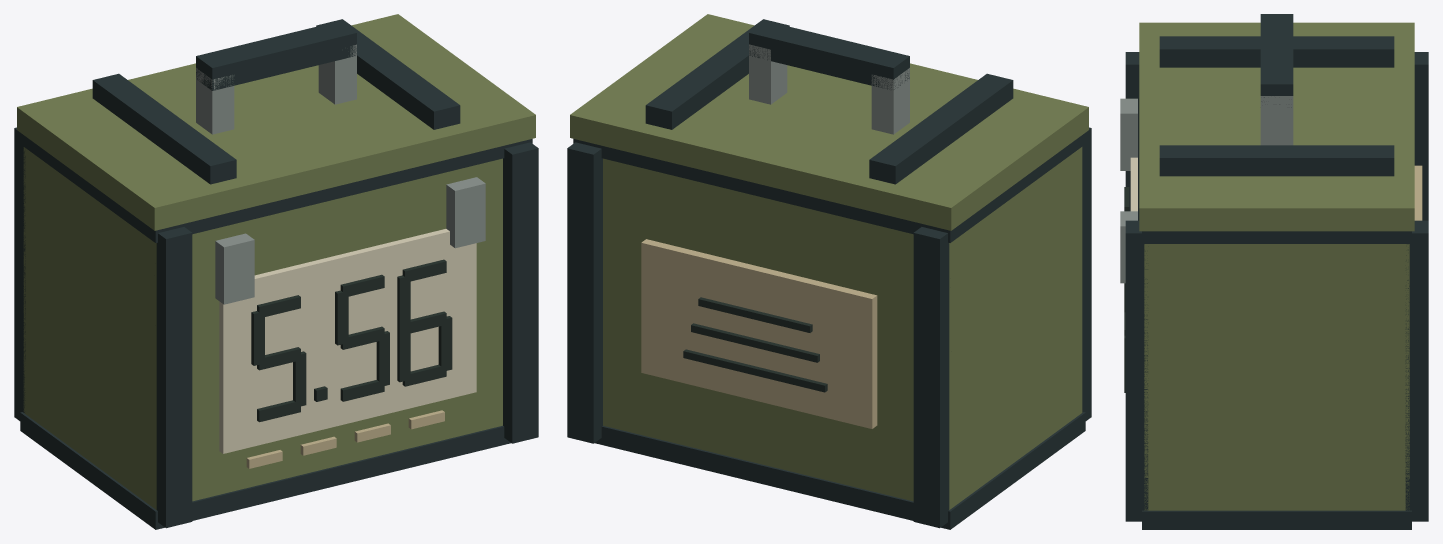
Rendered from FSA_AMMO_Pack_556.glb.
3 views of the same model, side by side, from view 1: azimuth 30°, elevation 25°; view 2: azimuth 150°, elevation 25°; view 3: azimuth 270°, elevation 25° (orthographic).
Parts seen in each view (by area): view 1: Package, ClosedLid, LabelPlate, CornerFront_-1, CornerFront_1, BaseSeam, CarryHandle, LidSeam, TopRib_-1, TopRib_1, CornerBack_-1, Latch_-1 (+15 smaller); view 2: Package, ClosedLid, RearPanel, CornerBack_-1, CornerBack_1, BaseSeam, LidSeam, TopRib_-1, CarryHandle, TopRib_1, CornerFront_-1, HandlePost_-1 (+4 smaller); view 3: Package, ClosedLid, TopRib_1, TopRib_-1, CornerBack_1, CornerFront_1, BaseSeam, LidSeam, CarryHandle, CornerBack_-1, HandlePost_1, Latch_-1 (+4 smaller).
Boxes of the visible parts, x1=… form: Package: x1=23, y1=147, x2=502, y2=509; ClosedLid: x1=17, y1=14, x2=535, y2=230; LabelPlate: x1=219, y1=229, x2=476, y2=453; CornerFront_-1: x1=156, y1=227, x2=192, y2=528; CornerFront_1: x1=503, y1=142, x2=538, y2=443; BaseSeam: x1=20, y1=412, x2=511, y2=529; CarryHandle: x1=196, y1=21, x2=356, y2=90; LidSeam: x1=20, y1=133, x2=532, y2=242; TopRib_-1: x1=92, y1=73, x2=236, y2=184; TopRib_1: x1=316, y1=19, x2=460, y2=129; CornerBack_-1: x1=14, y1=127, x2=25, y2=420; Latch_-1: x1=215, y1=233, x2=254, y2=304; Package: x1=603, y1=147, x2=1082, y2=509; ClosedLid: x1=570, y1=14, x2=1088, y2=230; RearPanel: x1=641, y1=239, x2=877, y2=428; CornerBack_-1: x1=913, y1=227, x2=949, y2=528; CornerBack_1: x1=567, y1=142, x2=602, y2=443; BaseSeam: x1=594, y1=412, x2=1085, y2=529; LidSeam: x1=573, y1=133, x2=1085, y2=242; TopRib_-1: x1=869, y1=73, x2=1013, y2=184; CarryHandle: x1=749, y1=21, x2=909, y2=89; TopRib_1: x1=645, y1=19, x2=789, y2=129; CornerFront_-1: x1=1082, y1=127, x2=1091, y2=420; HandlePost_-1: x1=871, y1=68, x2=909, y2=134; Package: x1=1144, y1=244, x2=1409, y2=510; ClosedLid: x1=1139, y1=22, x2=1414, y2=231; TopRib_1: x1=1159, y1=145, x2=1394, y2=176; TopRib_-1: x1=1159, y1=36, x2=1394, y2=67; CornerBack_1: x1=1405, y1=220, x2=1428, y2=521; CornerFront_1: x1=1125, y1=220, x2=1148, y2=521; BaseSeam: x1=1142, y1=510, x2=1411, y2=529; LidSeam: x1=1142, y1=231, x2=1411, y2=243; CarryHandle: x1=1260, y1=14, x2=1293, y2=107; CornerBack_-1: x1=1414, y1=52, x2=1428, y2=220; HandlePost_1: x1=1260, y1=96, x2=1293, y2=145; Latch_-1: x1=1120, y1=98, x2=1137, y2=170.
Bounding box in the file's own units: 0.174 × 0.17 × 0.122.
